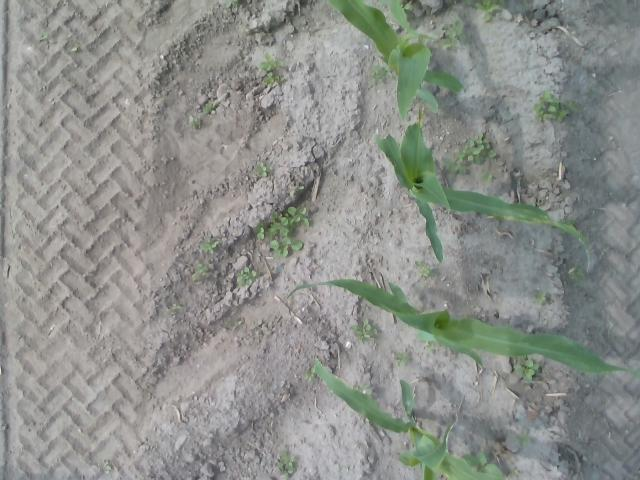Maize: (288, 277, 640, 394), (376, 125, 591, 268), (311, 359, 518, 480), (328, 0, 468, 118)
Weeds: (254, 204, 311, 241), (535, 90, 581, 126), (464, 135, 505, 164), (354, 316, 384, 345), (442, 26, 472, 54), (276, 446, 299, 478), (270, 239, 304, 259), (518, 359, 544, 384), (445, 154, 470, 178), (478, 0, 502, 24), (369, 64, 393, 86), (260, 53, 286, 73), (417, 259, 442, 279), (238, 269, 260, 290), (256, 160, 276, 180), (517, 426, 533, 450), (262, 72, 287, 86), (202, 236, 218, 257), (190, 115, 208, 132), (394, 350, 414, 364), (534, 288, 548, 308), (481, 170, 498, 186), (570, 266, 586, 282), (288, 181, 306, 194), (204, 102, 218, 116), (197, 263, 211, 277)
